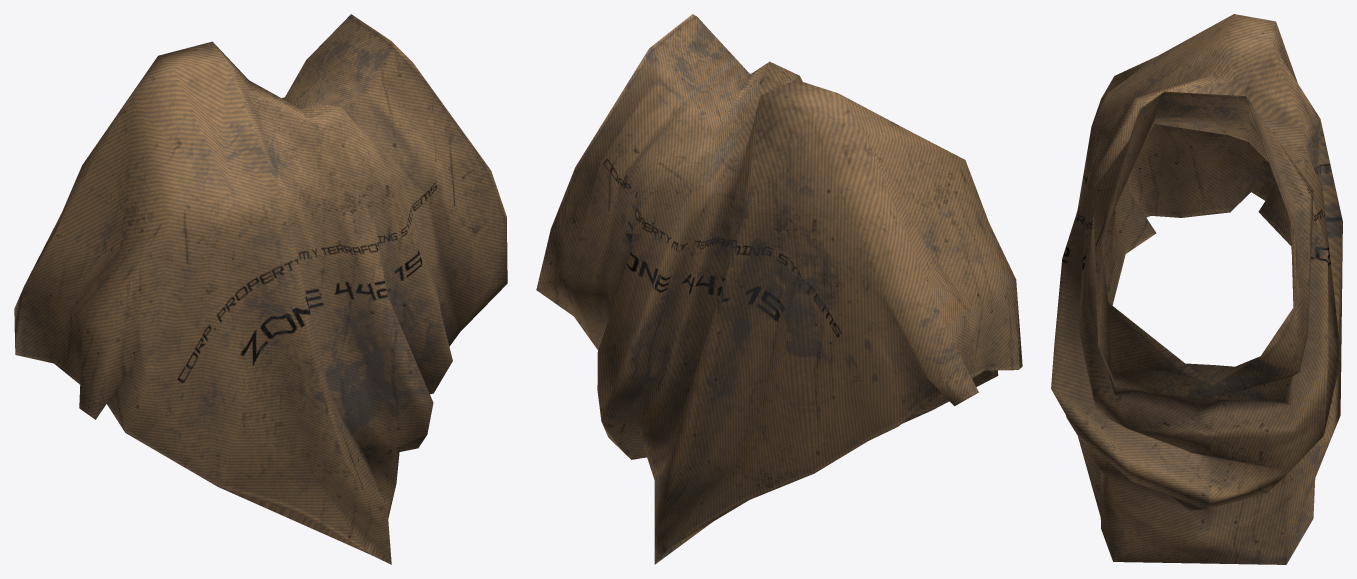
The model's file is Antenna_06_Tilt_L2.fbx.
The picture shows the model from 3 angles, left to right: view 1: azimuth 30°, elevation 25°; view 2: azimuth 150°, elevation 25°; view 3: azimuth 270°, elevation 25°; orthographic projection. The views are drawn at different scales.
Visible parts, largest first — view 1: polySurface1600; view 2: polySurface1600; view 3: polySurface1600.
Part boxes in pixels (x1,y1,x2,y2): polySurface1600: (14,14,507,564); polySurface1600: (536,14,1022,564); polySurface1600: (1051,14,1342,564).
Size of the model in its own units: 511 by 575 by 314.
